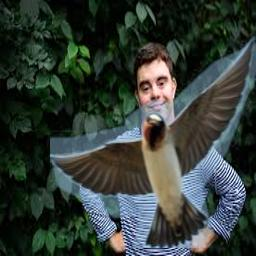Swallow: (50, 36, 256, 248)
